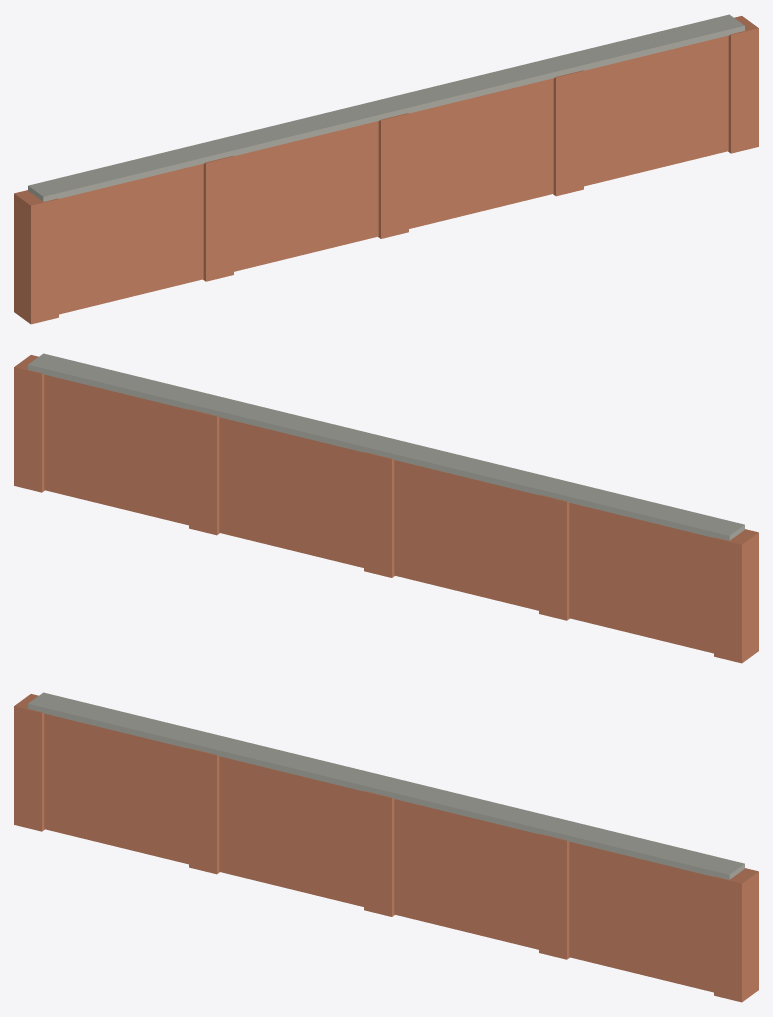
File: SM_Tapia_v1_Ladrillo_LOD1.fbx
3 views of the same model, one above another, from view 1: azimuth 30°, elevation 25°; view 2: azimuth 150°, elevation 25°; view 3: azimuth 330°, elevation 25° (orthographic).
Parts seen in each view (by area): view 1: SM_huerta_nules_v6_LOD1; view 2: SM_huerta_nules_v6_LOD1; view 3: SM_huerta_nules_v6_LOD1.
Part boxes in pixels (<box>): SM_huerta_nules_v6_LOD1: <box>14,14,758,324</box>; SM_huerta_nules_v6_LOD1: <box>14,353,758,663</box>; SM_huerta_nules_v6_LOD1: <box>14,692,758,1002</box>.
Size of the model in its own units: 10.4 by 1.69 by 0.42.
